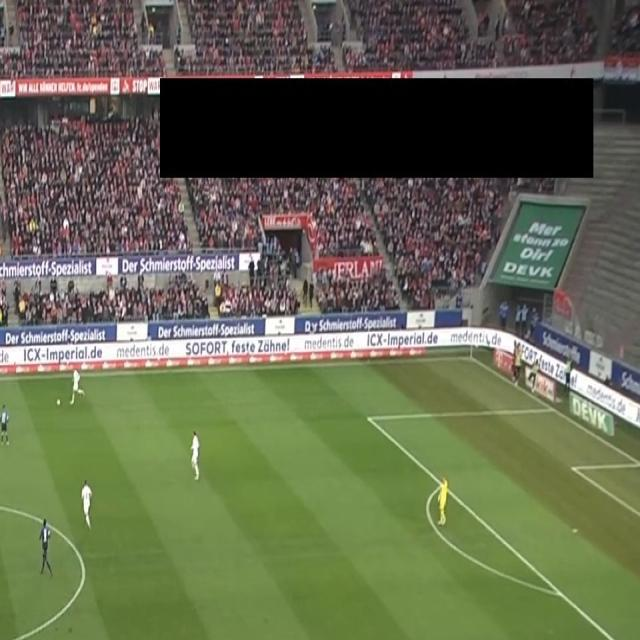ball: (56, 398, 61, 408)
